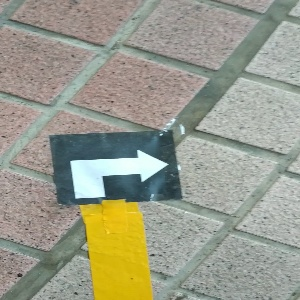right: (49, 131, 181, 204)
